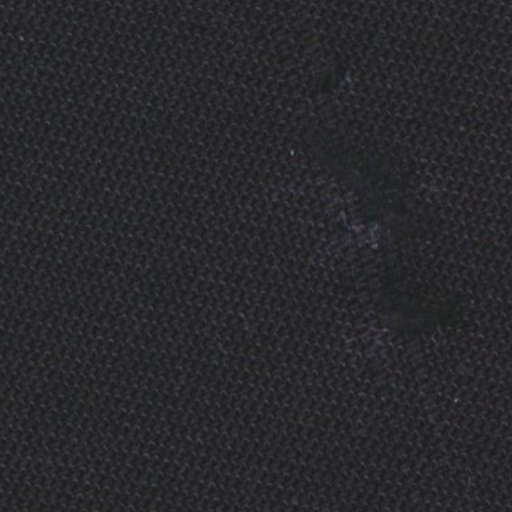DaiSha: (369, 94, 462, 378)
